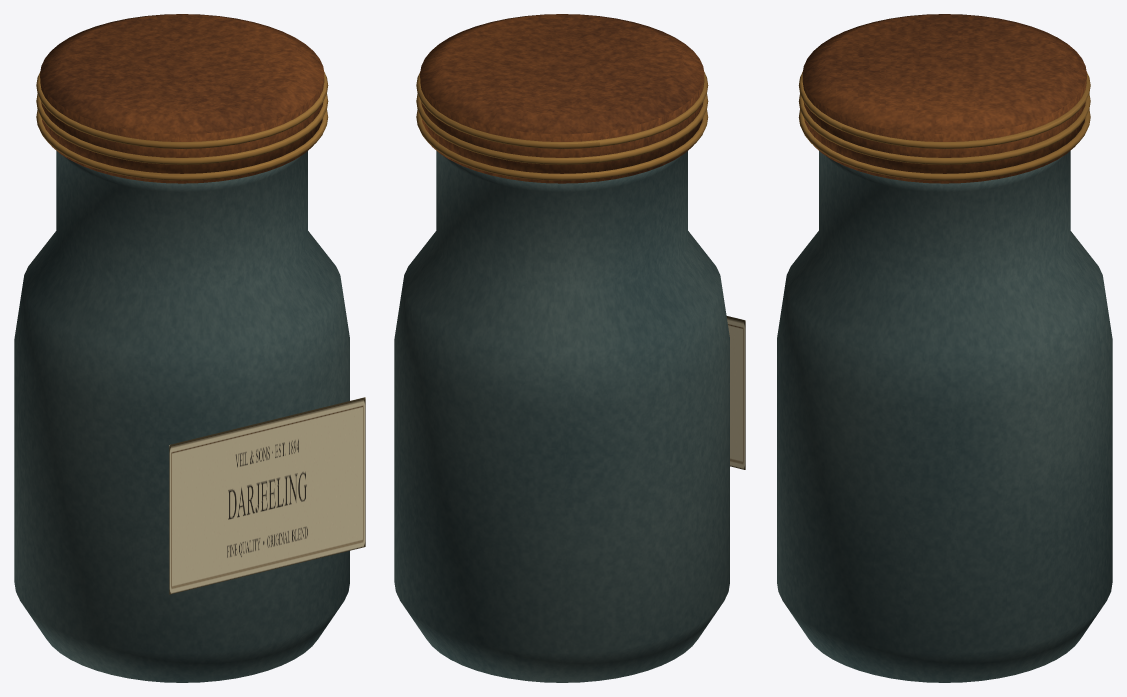
Rendered from JarSpice.fbx.
The picture shows the model from 3 angles, left to right: view 1: azimuth 30°, elevation 25°; view 2: azimuth 150°, elevation 25°; view 3: azimuth 270°, elevation 25°; orthographic projection.
Parts seen in each view (by area): view 1: JarSpice_GlassPatina, JarSpice_Copper, JarSpice_Decals, JarSpice_Brass; view 2: JarSpice_GlassPatina, JarSpice_Copper, JarSpice_Brass, JarSpice_Decals; view 3: JarSpice_GlassPatina, JarSpice_Copper, JarSpice_Brass.
Boxes of the visible parts, bbox=[...] form: JarSpice_GlassPatina: bbox=[14, 151, 349, 682]; JarSpice_Copper: bbox=[40, 14, 324, 183]; JarSpice_Decals: bbox=[169, 397, 365, 594]; JarSpice_Brass: bbox=[36, 71, 328, 180]; JarSpice_GlassPatina: bbox=[394, 151, 729, 682]; JarSpice_Copper: bbox=[420, 14, 704, 183]; JarSpice_Brass: bbox=[416, 71, 708, 180]; JarSpice_Decals: bbox=[726, 316, 745, 469]; JarSpice_GlassPatina: bbox=[777, 151, 1112, 682]; JarSpice_Copper: bbox=[802, 14, 1086, 183]; JarSpice_Brass: bbox=[798, 71, 1090, 180].
Bounding box in the file's own units: 13.4 × 24.6 × 13.5.
